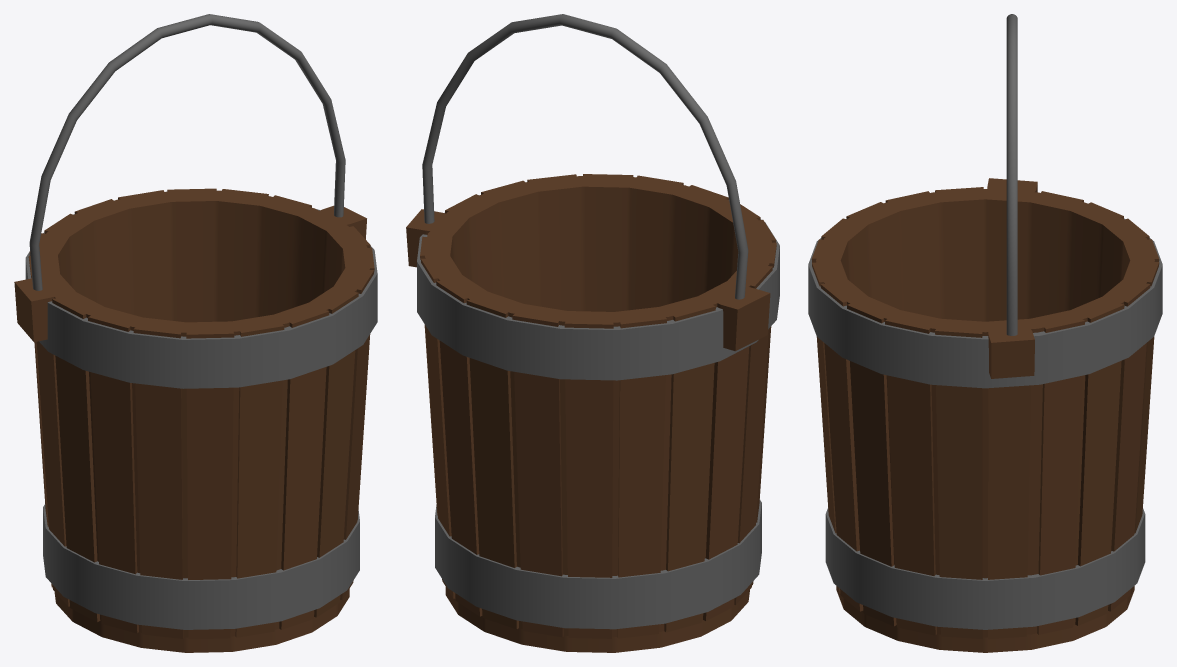
Rendered from Bucket.fbx.
3 views of the same model, side by side, from view 1: azimuth 30°, elevation 25°; view 2: azimuth 150°, elevation 25°; view 3: azimuth 270°, elevation 25° (orthographic). The views are drawn at different scales.
Parts seen in each view (by area): view 1: Bucket, Brace02, Brace01, Handle; view 2: Bucket, Brace02, Brace01, Handle; view 3: Bucket, Brace02, Brace01, Handle.
Boxes of the visible parts, box(x1,y1,x2,y2) form: Bucket: box(14, 188, 374, 652); Brace02: box(25, 209, 377, 388); Brace01: box(43, 504, 359, 629); Handle: box(29, 14, 345, 290); Bucket: box(406, 174, 776, 652); Brace02: box(417, 195, 779, 380); Brace01: box(435, 499, 761, 629); Handle: box(422, 14, 748, 299); Bucket: box(811, 178, 1159, 652); Brace02: box(808, 218, 1162, 388); Brace01: box(825, 507, 1145, 629); Handle: box(1006, 14, 1017, 335).
Size of the model in its own units: 2.61 by 4.16 by 2.38.
